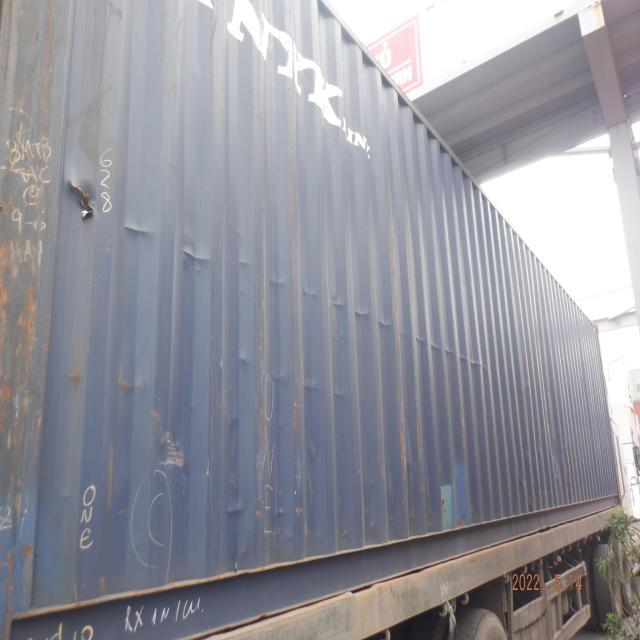hole: (71, 183, 100, 222)
